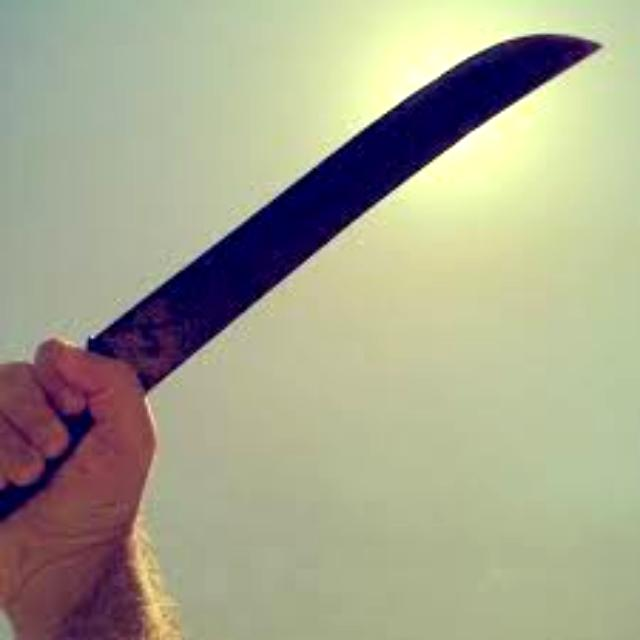long knife: (1, 14, 610, 540)
